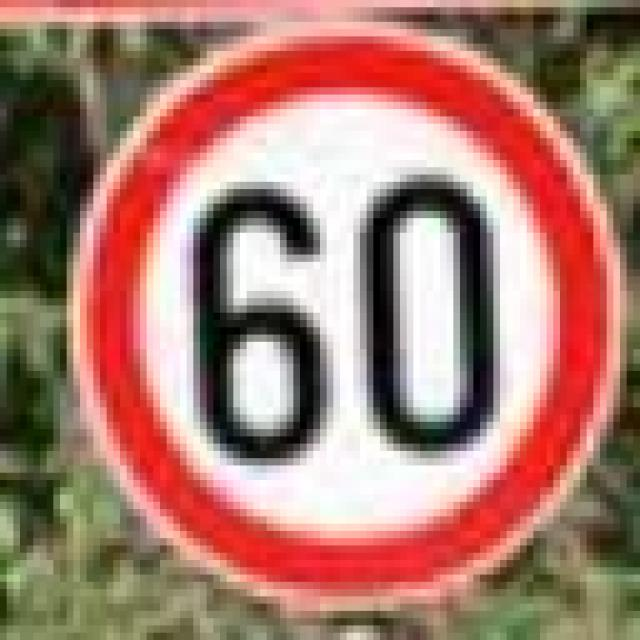Ograniczenie predkosci do 60: (60, 14, 620, 604)
